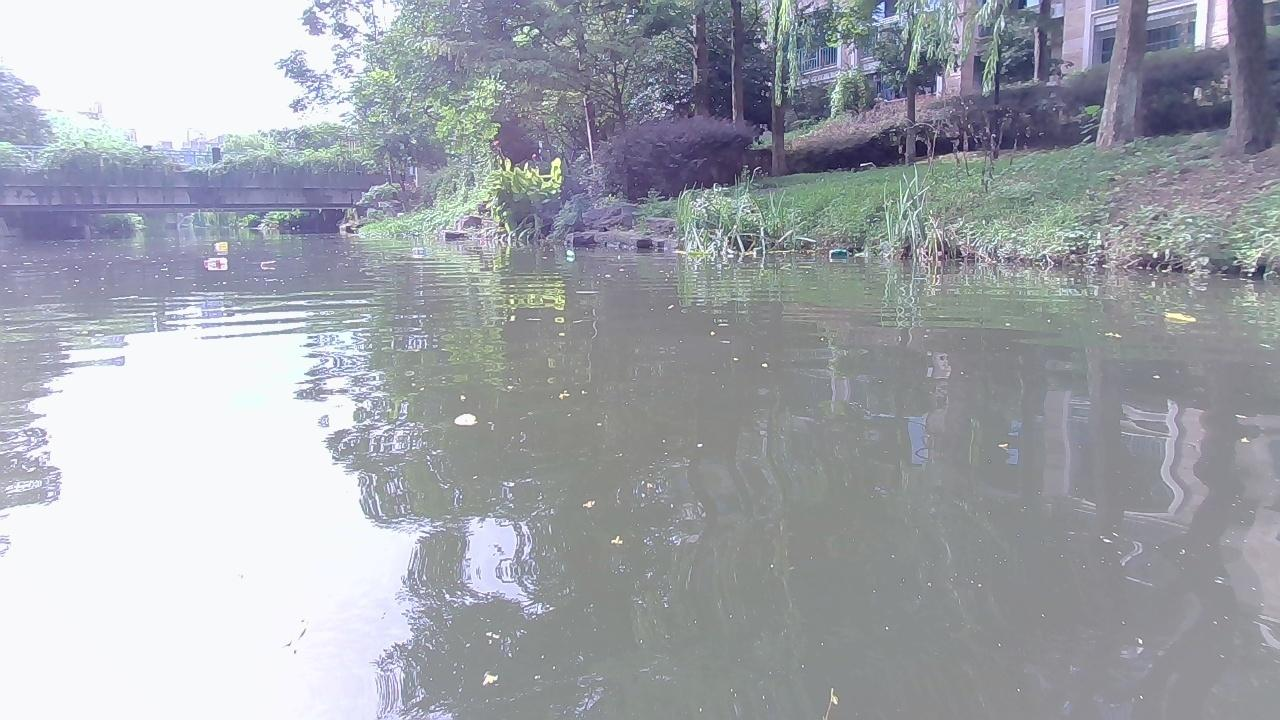bottle: (1162, 312, 1201, 326), (200, 257, 230, 268), (826, 246, 852, 256), (409, 245, 430, 255), (259, 259, 277, 269), (212, 238, 228, 249), (566, 250, 575, 261)
